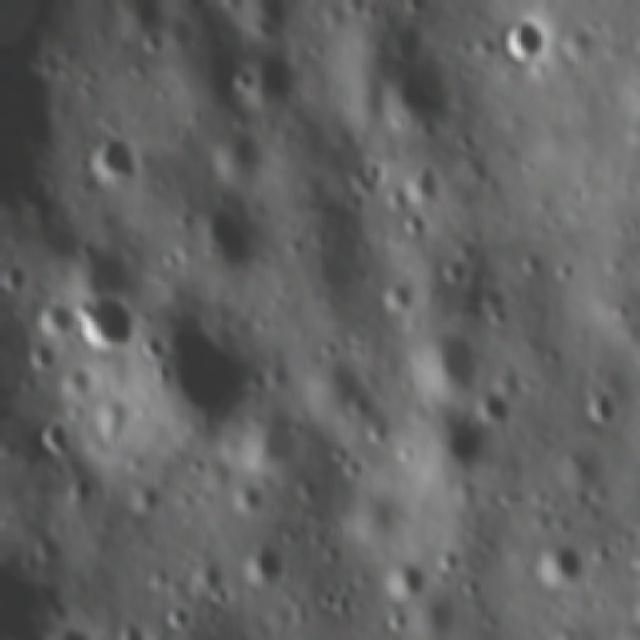crater: (159, 299, 253, 424), (377, 56, 451, 121), (196, 206, 262, 272), (424, 328, 485, 392), (427, 412, 488, 470), (78, 291, 138, 349), (82, 133, 142, 190), (473, 377, 524, 435), (532, 538, 586, 592), (250, 408, 302, 464), (570, 377, 624, 426), (504, 8, 547, 64), (241, 537, 288, 585), (380, 556, 425, 601), (408, 153, 444, 204), (32, 301, 74, 342), (125, 480, 168, 520), (37, 415, 74, 459), (129, 26, 174, 59), (64, 466, 96, 512), (158, 598, 196, 632), (24, 337, 62, 369), (356, 152, 392, 182), (201, 580, 234, 608), (231, 64, 258, 95), (401, 208, 427, 232)
